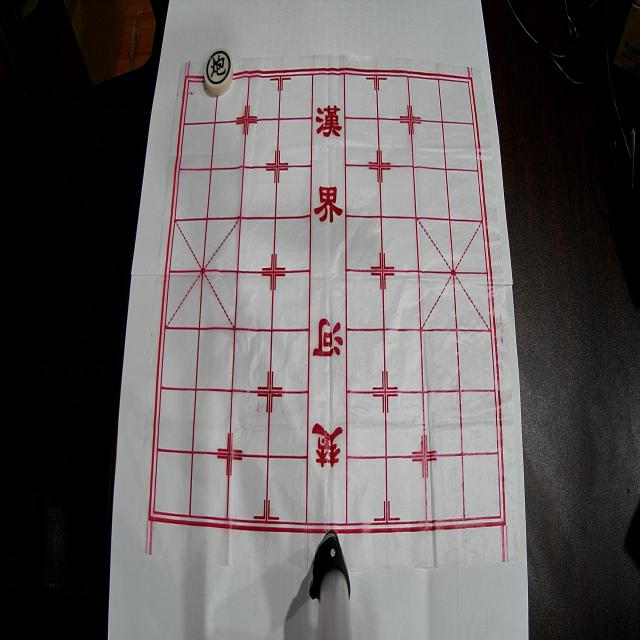black-cannon: (204, 48, 234, 96)
